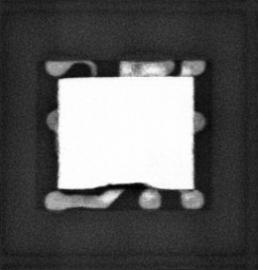DIE_BROKEN: (88, 179, 157, 191)
